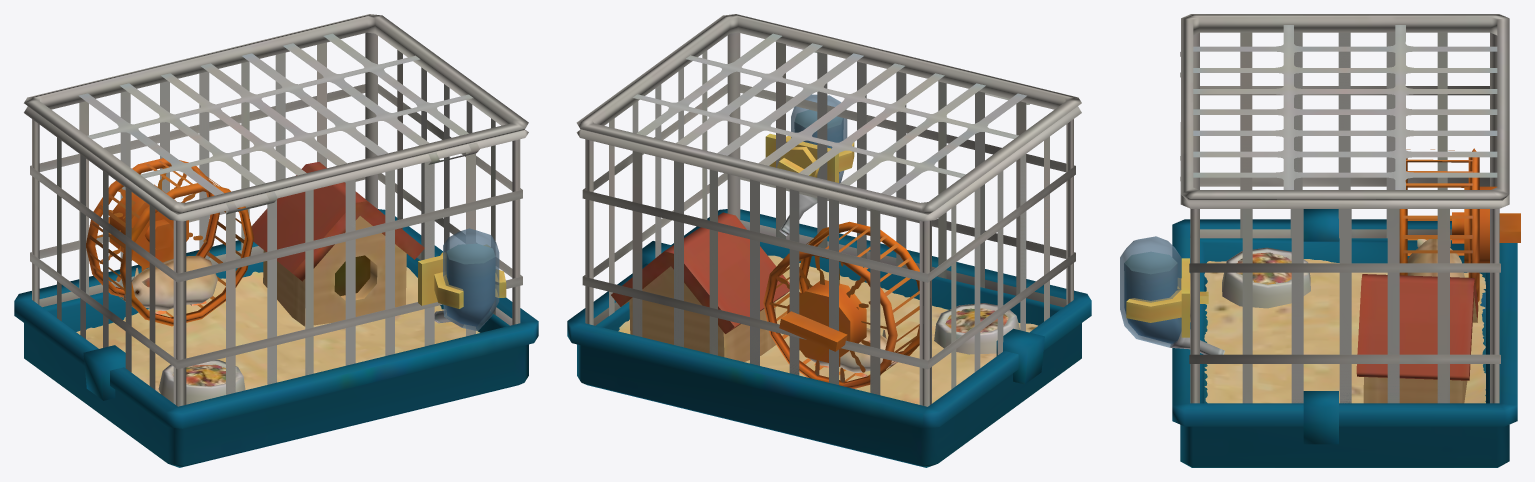
3 views of the same model, side by side, from view 1: azimuth 30°, elevation 25°; view 2: azimuth 150°, elevation 25°; view 3: azimuth 270°, elevation 25° (orthographic). The views are drawn at different scales.
Bounding box in the file's own units: 9.14 × 5.86 × 7.68.
4 materials, 3 textured.
